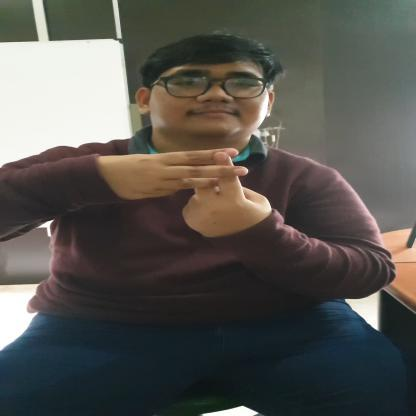B: (106, 147, 272, 235)
